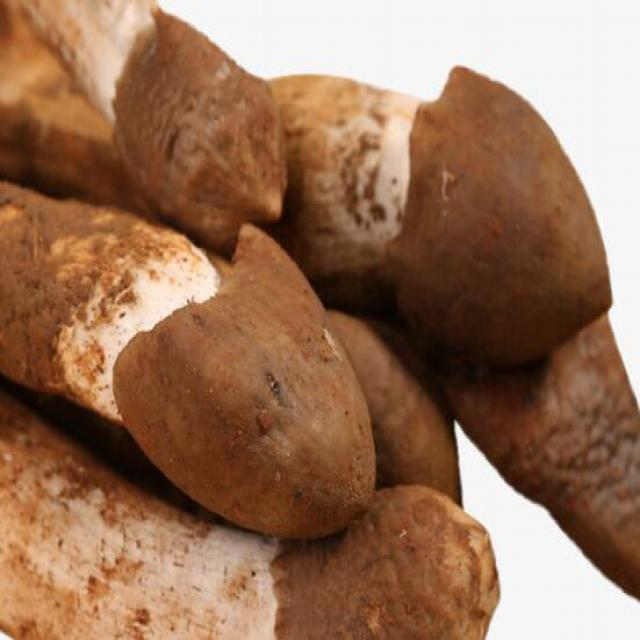Collybia albuminosa: (0, 176, 378, 536), (267, 66, 615, 360)
